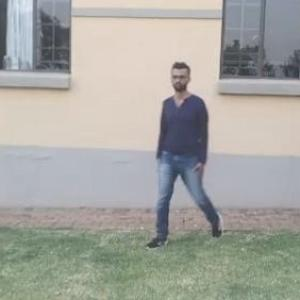follow: (157, 61, 210, 244)
